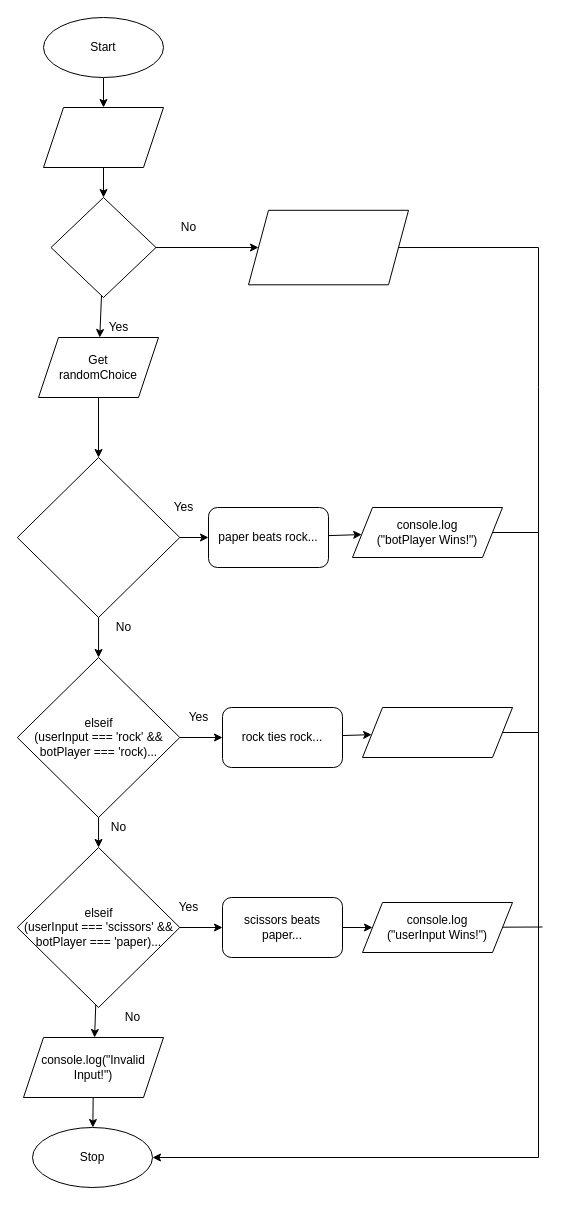
Some shapes in this 565 by 1205 pixel diagram are drawn without their labels. Here are the shapes that lost their labels. From the top down, the box of each, then its label:
(42, 106, 164, 168): Get userInput
(50, 196, 156, 298): if (userInput 'rock' || 'paper' || 'scissors')
(248, 209, 408, 285): console.log ("Invalid Input, Enter a valid choice")
(16, 456, 180, 618): elseif (botPlayer === 'paper' && userInput === 'rock)...
(362, 706, 512, 758): console.log ("It was a tie!")
